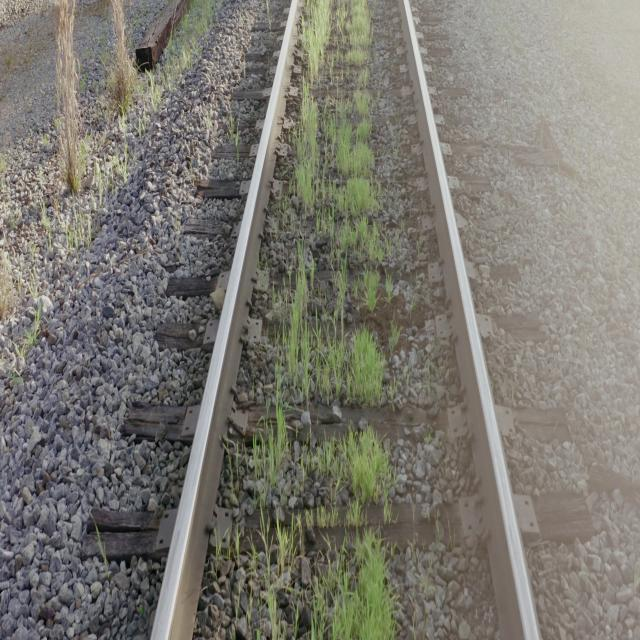Plant: (252, 0, 386, 638), (310, 531, 395, 638), (332, 529, 395, 640), (316, 427, 391, 518)
